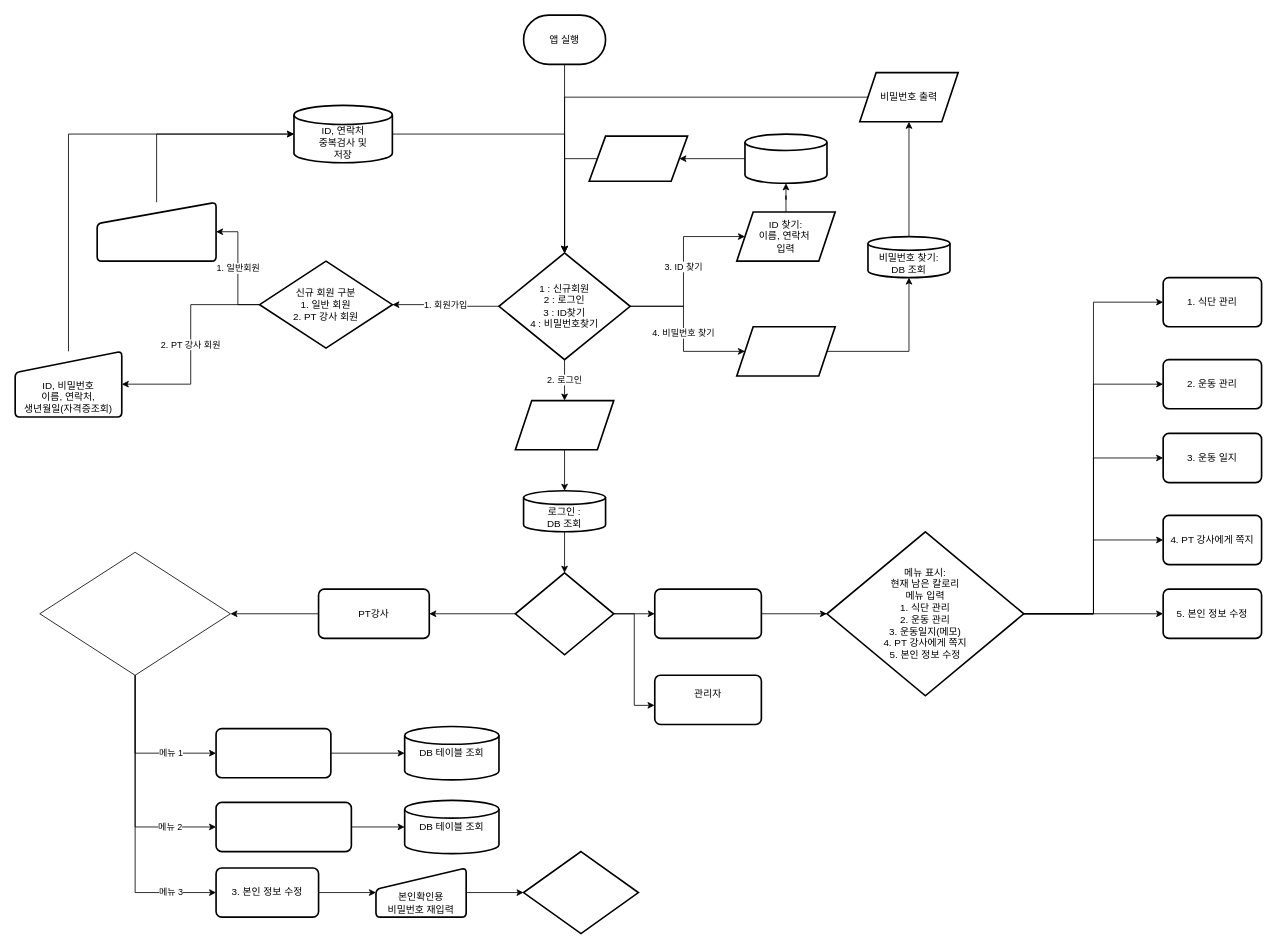
Some shapes in this 1276 by 948 pixel diagram are drawn without their labels. The box of each missing label's shape, as (x1, y1, x2, y2) in pixels:
1. 나에게 온 쪽지 관리: (215, 727, 331, 778)
2. 쪽지 받은 회원 정보 조회: (215, 801, 352, 852)
ID 찾기: DB 조회: (744, 133, 827, 184)
ID 출력: (588, 135, 688, 182)
ID, 비밀번호 이름, 연락처, 성별, 나이, 몸무게, 키, 운동습관(1~3): (96, 201, 216, 262)
ID, 비밀번호 입력: (514, 399, 614, 450)
메뉴 표시: 현재 읽지 않은 쪽지 수 메뉴 입력: 1. 나에게 온 쪽지 관리 2. 쪽지 받은 회원 정보 조회 3. 본인 정보 수정: (39, 551, 230, 675)
변경할 정보 메뉴 1. 비밀번호 2. 연락처: (522, 850, 639, 934)
비밀번호 찾기: ID, 이름, 연락처 입력: (736, 326, 836, 376)
일반 회원: (654, 588, 762, 639)
회원 권한: 일반회원 PT강사: (514, 572, 614, 655)
